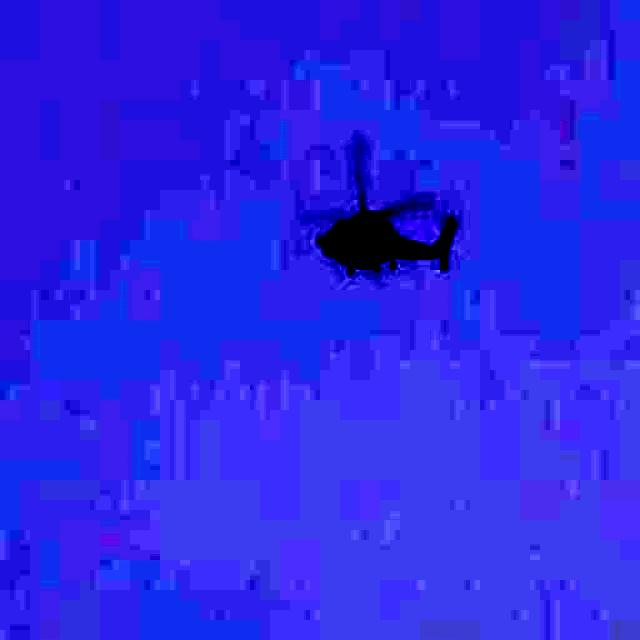drone: (304, 139, 466, 325)
